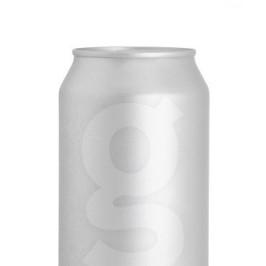beer: (57, 44, 211, 266)
